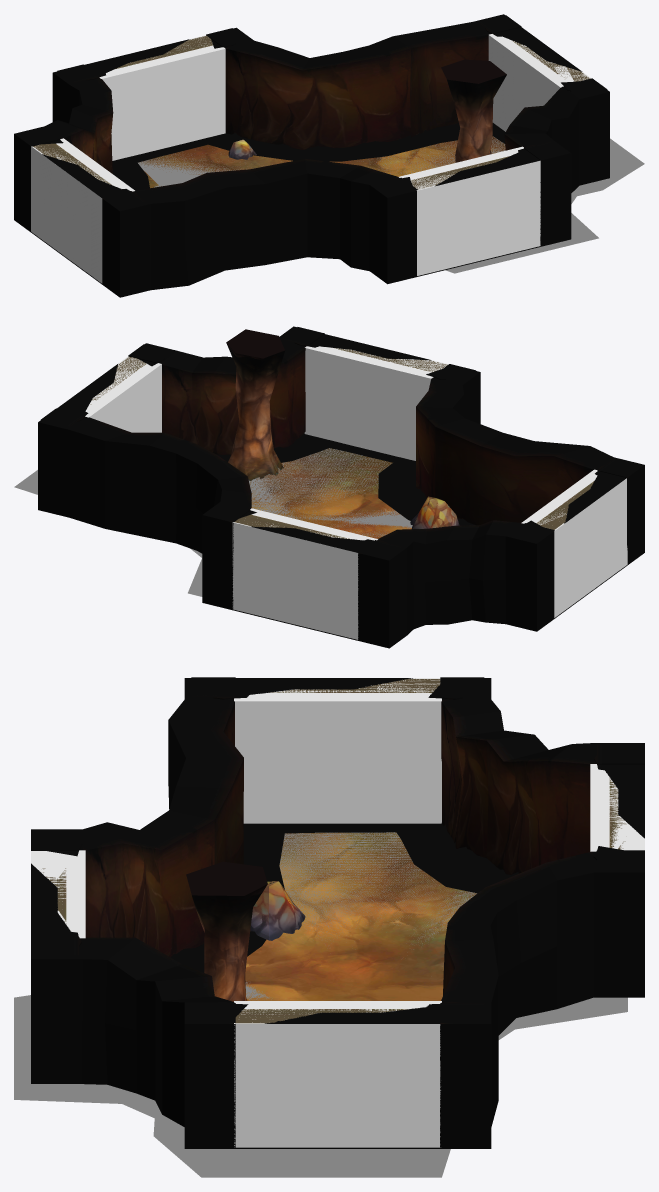
Rendered from Dungeon_011_RoadX_001.fbx.
3 views of the same model, one above another, from view 1: azimuth 30°, elevation 25°; view 2: azimuth 150°, elevation 25°; view 3: azimuth 270°, elevation 25° (orthographic). The views are drawn at different scales.
Parts seen in each view (by area): view 1: Dan1, DoorWay_NavMask (1) (×4), Dun_011_Door_002_old (×4), Radar, Dan1_shadow, Dan002_02, Dungeon_011_Object_010, Dun_011_Door_003_WarpRoom (×4), Dun_011_Door_002 (×2), Dun_011_Door_002_shadow; view 2: Dan1, DoorWay_NavMask (1) (×4), Dan002_02, Dun_011_Door_002_old (×4), Radar, Dungeon_011_Object_010, Dan1_shadow, Dun_011_Door_003_WarpRoom (×4), Dungeon_011_Object_012, Dun_011_Door_002, Dun_011_Door_002_shadow; view 3: Dan1, DoorWay_NavMask (1) (×4), Dan002_02, Radar, Dun_011_Door_002_old (×4), Dan1_shadow, Dungeon_011_Object_010, Dun_011_Door_002 (×3), Dun_011_Door_003_WarpRoom (×2), Dungeon_011_Object_012, Dun_011_Door_002_shadow.
Part boxes in pixels (x1,y1,x2,y2): Dan1: [14, 14, 609, 297]; DoorWay_NavMask (1) (×4): [31, 34, 591, 283]; Dun_011_Door_002_old (×4): [17, 15, 607, 244]; Radar: [138, 136, 644, 273]; Dan1_shadow: [112, 123, 505, 190]; Dan002_02: [139, 136, 505, 188]; Dungeon_011_Object_010: [441, 59, 506, 162]; Dun_011_Door_003_WarpRoom (×4): [33, 35, 590, 189]; Dun_011_Door_002 (×2): [31, 128, 563, 284]; Dun_011_Door_002_shadow: [132, 141, 207, 162]; Dan1: [38, 326, 644, 648]; DoorWay_NavMask (1) (×4): [85, 346, 627, 639]; Dan002_02: [250, 448, 411, 538]; Dun_011_Door_002_old (×4): [41, 327, 641, 624]; Radar: [14, 448, 412, 596]; Dungeon_011_Object_010: [226, 329, 284, 480]; Dan1_shadow: [217, 433, 475, 525]; Dun_011_Door_003_WarpRoom (×4): [90, 348, 594, 538]; Dungeon_011_Object_012: [410, 496, 459, 529]; Dun_011_Door_002: [224, 503, 400, 640]; Dun_011_Door_002_shadow: [330, 443, 399, 462]; Dan1: [31, 678, 644, 1148]; DoorWay_NavMask (1) (×4): [31, 678, 644, 1147]; Dan002_02: [245, 832, 476, 1000]; Radar: [14, 832, 627, 1177]; Dun_011_Door_002_old (×4): [31, 677, 644, 1115]; Dan1_shadow: [171, 823, 518, 972]; Dungeon_011_Object_010: [186, 861, 267, 1001]; Dun_011_Door_002 (×3): [31, 677, 482, 1148]; Dun_011_Door_003_WarpRoom (×2): [235, 679, 440, 1023]; Dungeon_011_Object_012: [250, 881, 305, 940]; Dun_011_Door_002_shadow: [285, 823, 395, 833].
Size of what is drawn, in the model's own units: 13 by 2.96 by 9.25.
